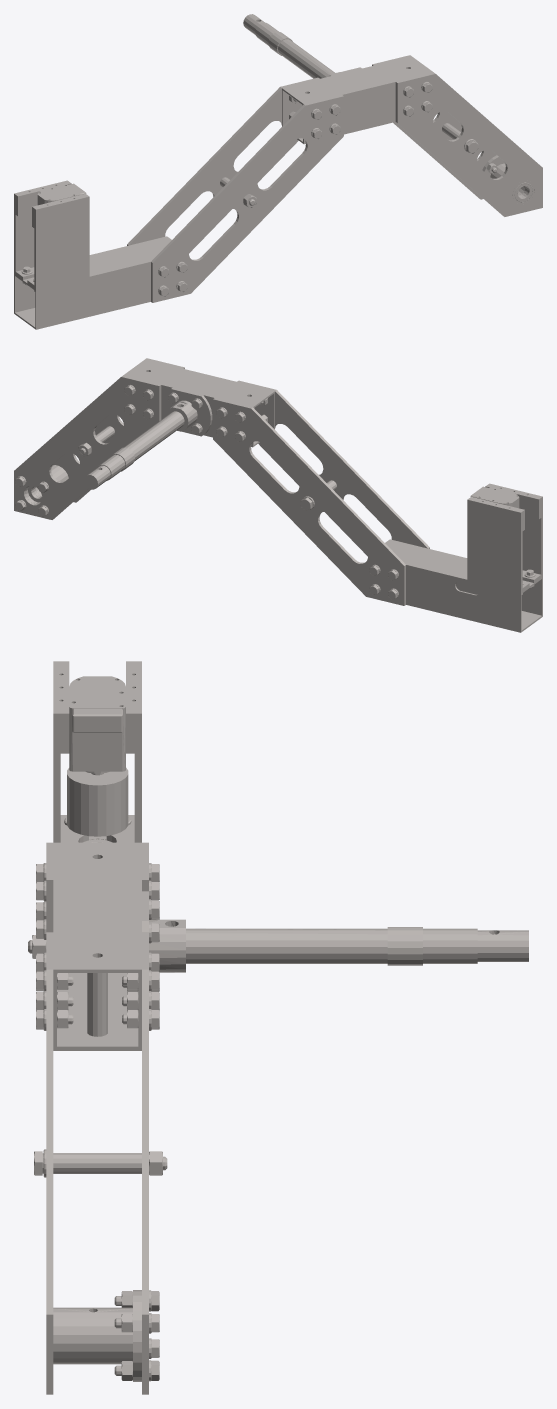
The model's file is rocker_right_link.dae.
3 views of the same model, one above another, from view 1: azimuth 30°, elevation 25°; view 2: azimuth 150°, elevation 25°; view 3: azimuth 270°, elevation 25° (orthographic). The views are drawn at different scales.
Parts seen in each view (by area): view 1: Rocker_Right_Link; view 2: Rocker_Right_Link; view 3: Rocker_Right_Link.
Part boxes in pixels (bbox=[...]): Rocker_Right_Link: bbox=[14, 14, 542, 329]; Rocker_Right_Link: bbox=[14, 358, 542, 632]; Rocker_Right_Link: bbox=[28, 661, 528, 1394].
Bounding box in the file's own units: 0.661 × 0.2834 × 0.201.
1 material, 1 textured.
